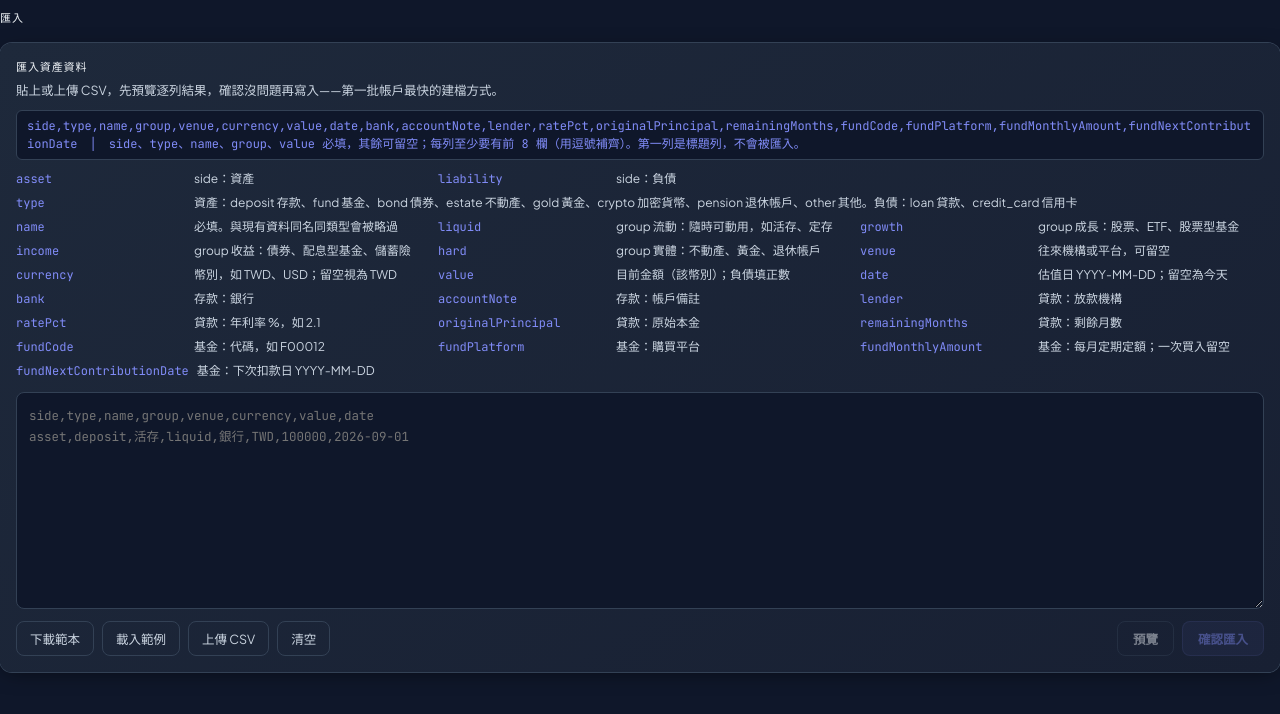
the row-by-row result › can write a row that only drew a warning
Replace the text in the text box with "csv text" at point(640, 500), box [16,392,1264,609]
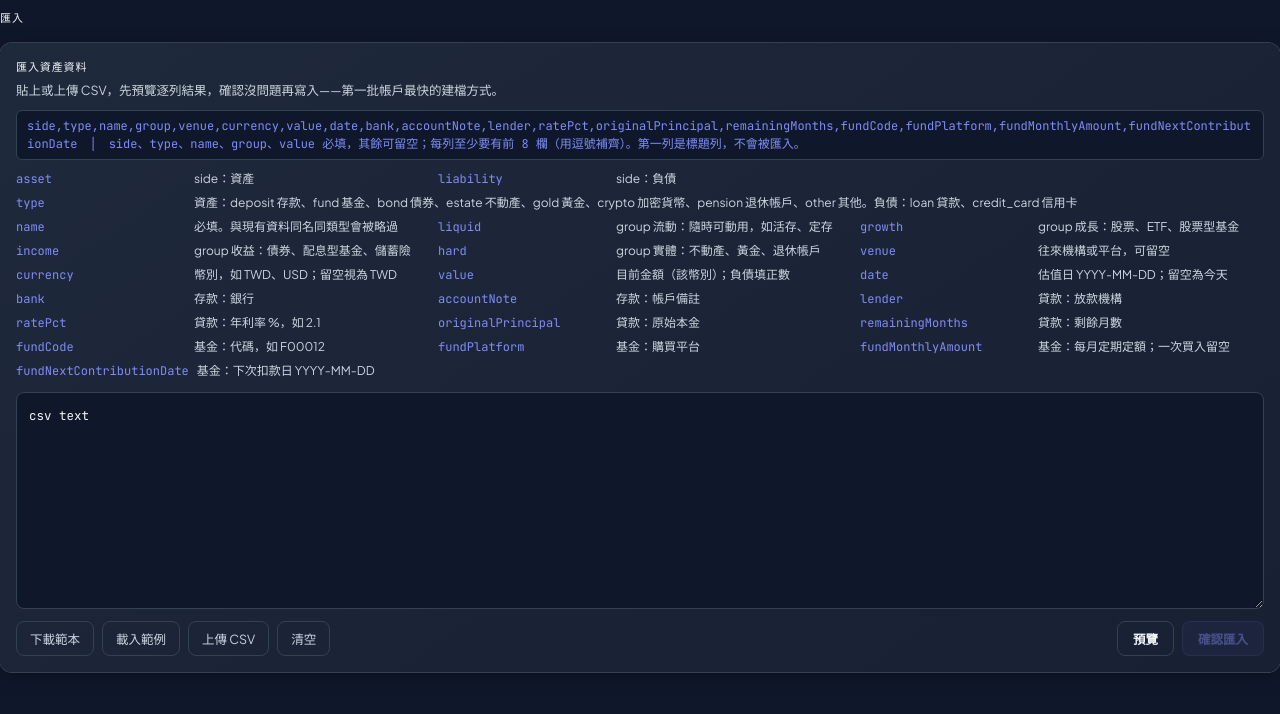
Click the button "預覽" at point(1146, 638), box [1117,621,1174,656]
(page scrolled)
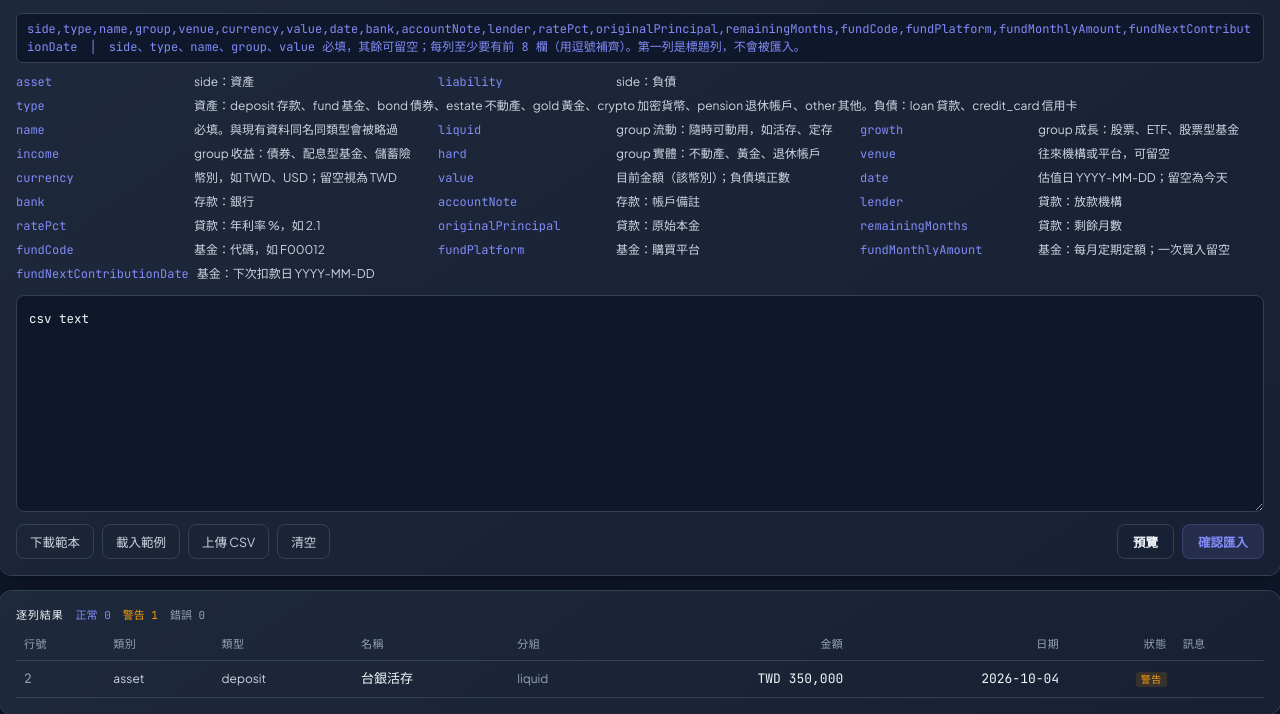
Check: the text "逐列結果" is shown, box [16,607,64,624]
Check: the button "確認匯入" is enabled, box [1182,524,1264,559]
